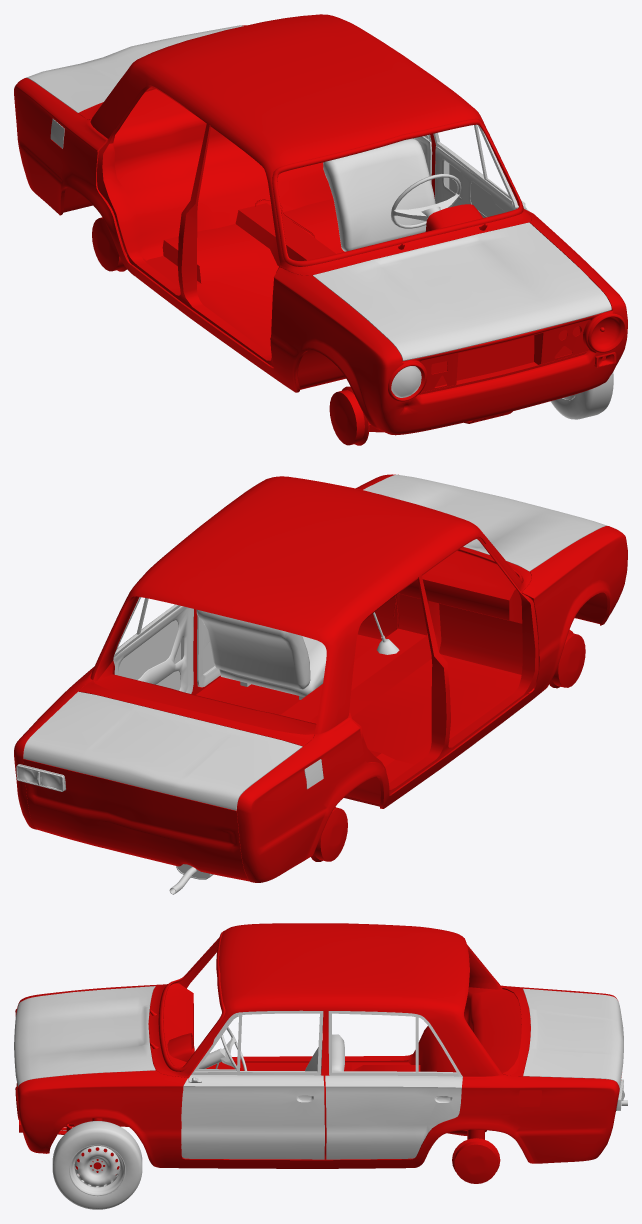
File: OldCar.fbx
The picture shows the model from 3 angles, top to bottom: view 1: azimuth 30°, elevation 25°; view 2: azimuth 150°, elevation 25°; view 3: azimuth 270°, elevation 25°; orthographic projection. The views are drawn at different scales.
Parts seen in each view (by area): view 1: SM_OldCar_Body, SM_OldCar_HoodF, SM_OldCar_Seat, SM_OldCar_HoodR, SM_OldCar_DoorF, SM_OldCar_Tire, SM_OldCar_SteeringWheel, SM_OldCar_LightF; view 2: SM_OldCar_Body, SM_OldCar_HoodR, SM_OldCar_HoodF, SM_OldCar_Seat, SM_OldCar_Door_R, SM_OldCar_DoorF, SM_OldCar_LightR; view 3: SM_OldCar_Body, SM_OldCar_DoorF, SM_OldCar_Door_R, SM_OldCar_HoodF, SM_OldCar_HoodR, SM_OldCar_Tire, SM_OldCar_Rim, SM_OldCar_SteeringWheel, SM_OldCar_Seat.
Part boxes in pixels (left/top/right/bottom): SM_OldCar_Body: left=14, top=14, right=627, bottom=445; SM_OldCar_HoodF: left=313, top=222, right=611, bottom=360; SM_OldCar_Seat: left=323, top=138, right=435, bottom=251; SM_OldCar_HoodR: left=26, top=25, right=243, bottom=112; SM_OldCar_DoorF: left=433, top=124, right=529, bottom=217; SM_OldCar_Tire: left=550, top=372, right=613, bottom=419; SM_OldCar_SteeringWheel: left=391, top=173, right=461, bottom=228; SM_OldCar_LightF: left=391, top=366, right=421, bottom=397; SM_OldCar_Body: left=14, top=474, right=627, bottom=882; SM_OldCar_HoodR: left=23, top=691, right=302, bottom=810; SM_OldCar_HoodF: left=363, top=474, right=607, bottom=571; SM_OldCar_Seat: left=196, top=609, right=326, bottom=699; SM_OldCar_Door_R: left=113, top=597, right=193, bottom=693; SM_OldCar_DoorF: left=197, top=615, right=220, bottom=687; SM_OldCar_LightR: left=16, top=764, right=65, bottom=791; SM_OldCar_Body: left=15, top=923, right=621, bottom=1183; SM_OldCar_DoorF: left=181, top=1010, right=324, bottom=1159; SM_OldCar_Door_R: left=325, top=1011, right=462, bottom=1159; SM_OldCar_HoodF: left=14, top=986, right=155, bottom=1086; SM_OldCar_HoodR: left=523, top=988, right=623, bottom=1089; SM_OldCar_Tire: left=52, top=1121, right=142, bottom=1209; SM_OldCar_Rim: left=69, top=1144, right=125, bottom=1196; SM_OldCar_SteeringWheel: left=198, top=1027, right=247, bottom=1070; SM_OldCar_Seat: left=305, top=1034, right=344, bottom=1074.
Size of what is drawn, in the model's own units: 165 by 145 by 395.
